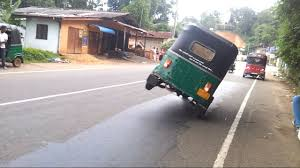tuk tuk: (144, 22, 239, 120), (242, 53, 269, 83), (5, 24, 23, 69)
